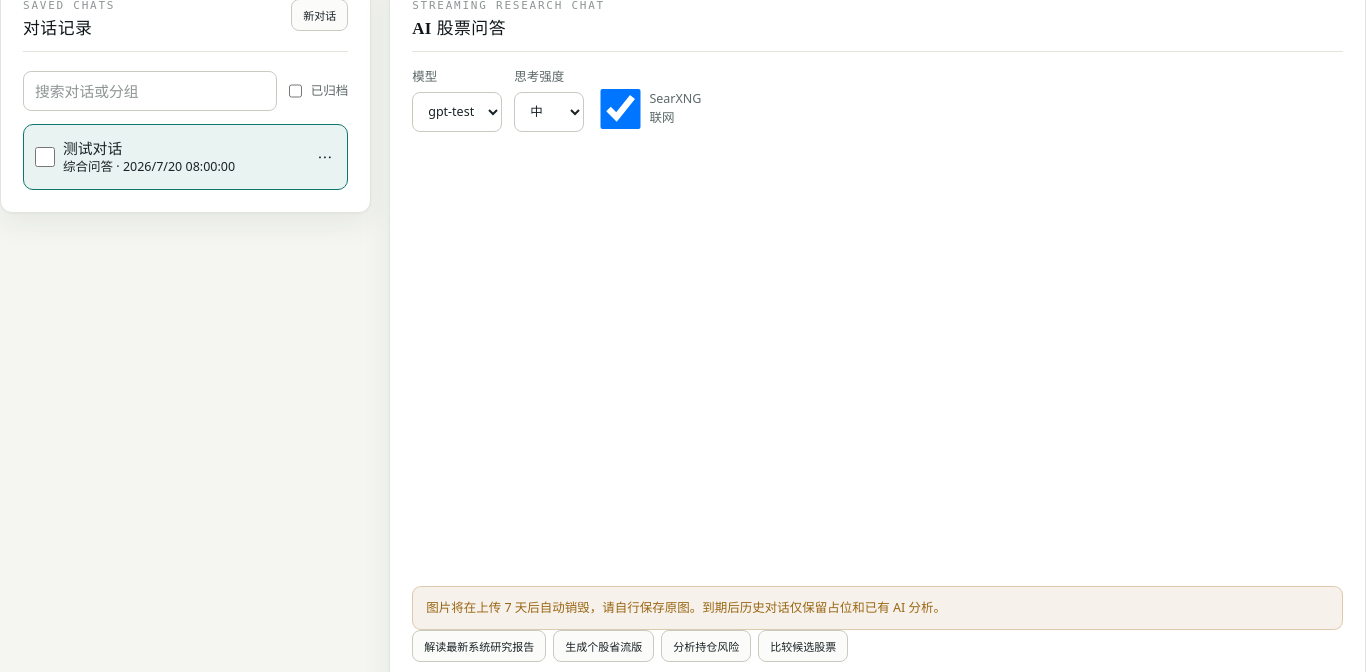
Test: chat safety and observability › appends a quick question without sending it
What coordinates should you click on to do the following:
click the button "生成个股省流版"
I would click on:
 (604, 646)
Its box is [553,630,654,662].
(page scrolled)
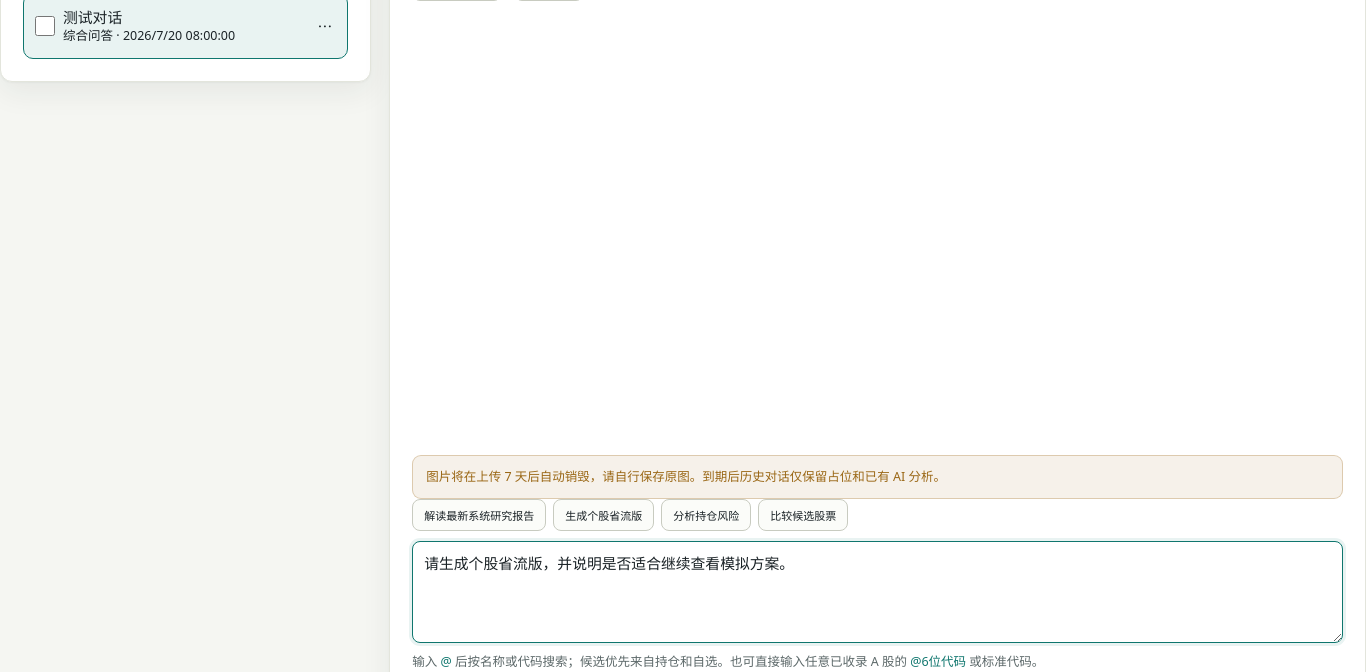
Expected: the text box with placeholder "例如：输入 @ 后继续输入股票名称，结合我的持仓、最新研究和联网信息分析后续风险" holds "请生成个股省流版，并说明是否适合继续查看模拟方案。", [412,541,1343,643]
